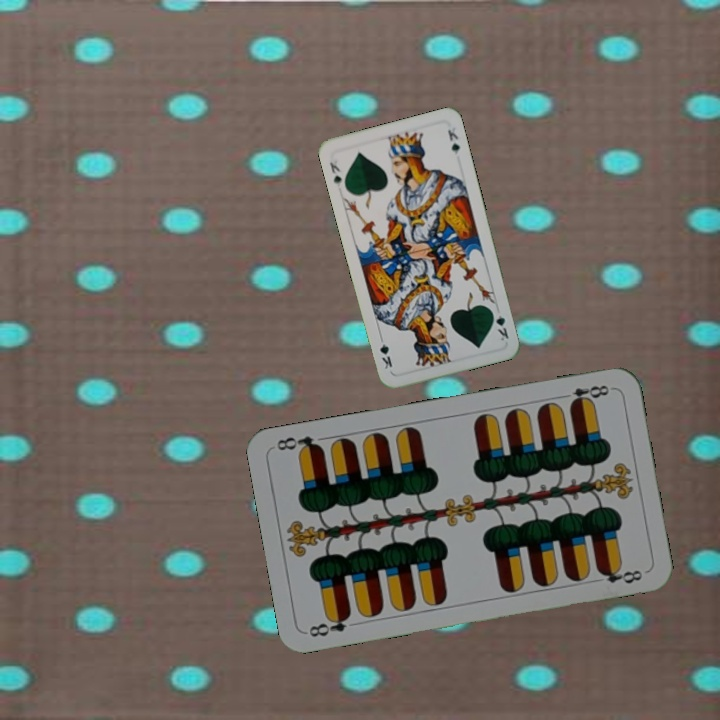E8: (556, 381, 615, 409), (305, 609, 353, 640)
GK: (488, 306, 511, 343), (326, 158, 344, 189)
